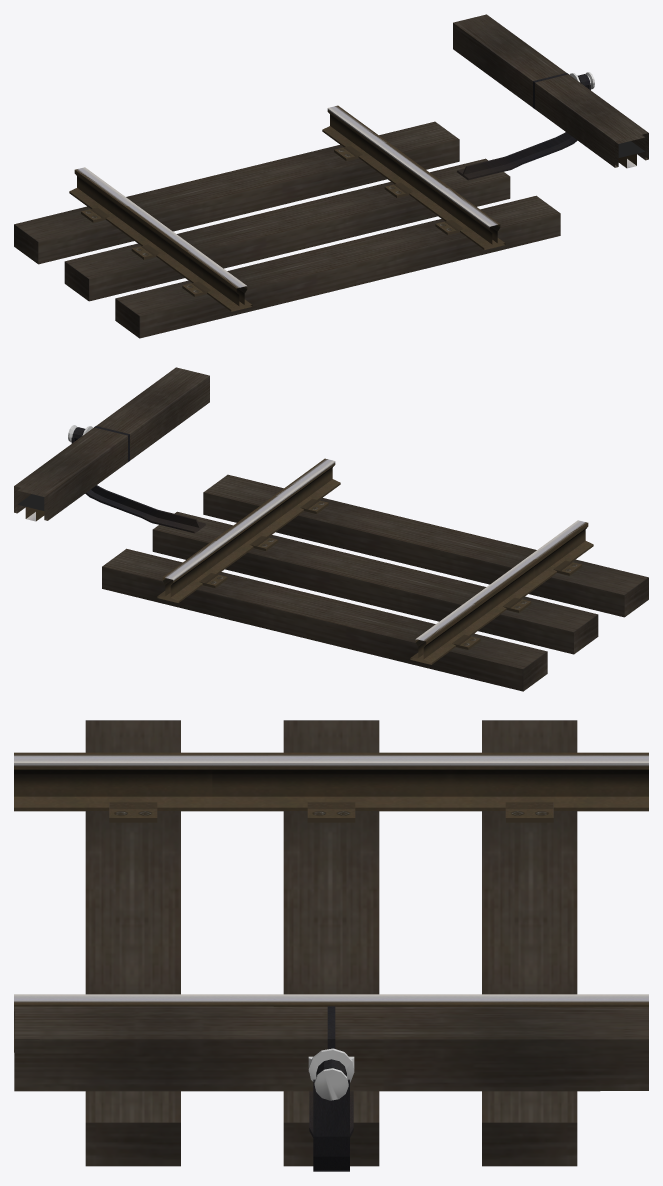
3 views of the same model, one above another, from view 1: azimuth 30°, elevation 25°; view 2: azimuth 150°, elevation 25°; view 3: azimuth 270°, elevation 25° (orthographic). The views are drawn at different scales.
Parts seen in each view (by area): view 1: ModelRail_1435mm_NB_Wood_SB_alt_L; view 2: ModelRail_1435mm_NB_Wood_SB_alt_L; view 3: ModelRail_1435mm_NB_Wood_SB_alt_L.
Part boxes in pixels (left/top/right/bottom): ModelRail_1435mm_NB_Wood_SB_alt_L: left=14, top=14, right=648, bottom=338; ModelRail_1435mm_NB_Wood_SB_alt_L: left=14, top=367, right=648, bottom=691; ModelRail_1435mm_NB_Wood_SB_alt_L: left=14, top=720, right=648, bottom=1171.
Bounding box in the file's own units: 3.1 × 0.5724 × 1.7.
Materials: 1 (1 with a texture image).
